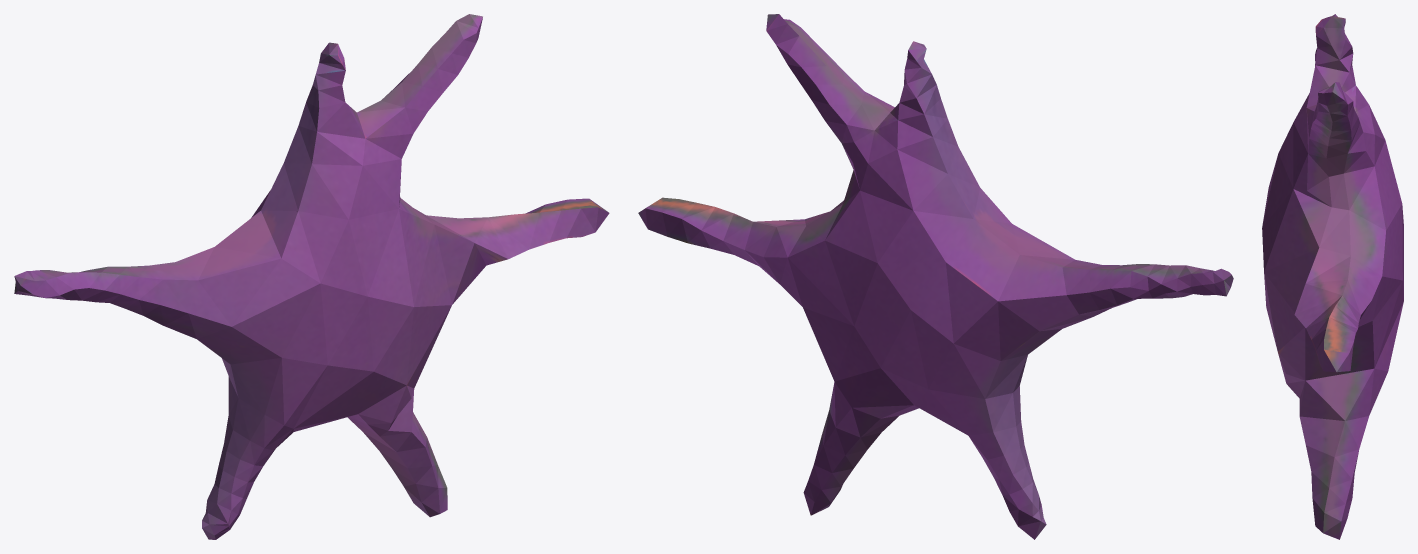
Rendered from Star_004.fbx.
The picture shows the model from 3 angles, left to right: view 1: azimuth 30°, elevation 25°; view 2: azimuth 150°, elevation 25°; view 3: azimuth 270°, elevation 25°; orthographic projection. The views are drawn at different scales.
Parts seen in each view (by area): view 1: Star.004; view 2: Star.004; view 3: Star.004.
Boxes of the visible parts, x1=… form: Star.004: x1=14, y1=14, x2=609, y2=539; Star.004: x1=638, y1=14, x2=1233, y2=539; Star.004: x1=1262, y1=14, x2=1403, y2=539.
Size of the model in its own units: 28.82 by 23.02 by 6.19.
